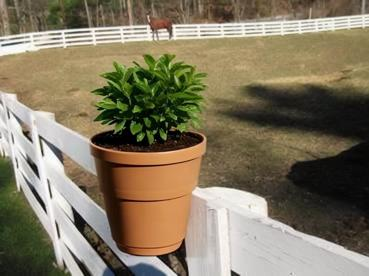horse: (145, 13, 175, 43)
pottedplant: (90, 54, 206, 256)
